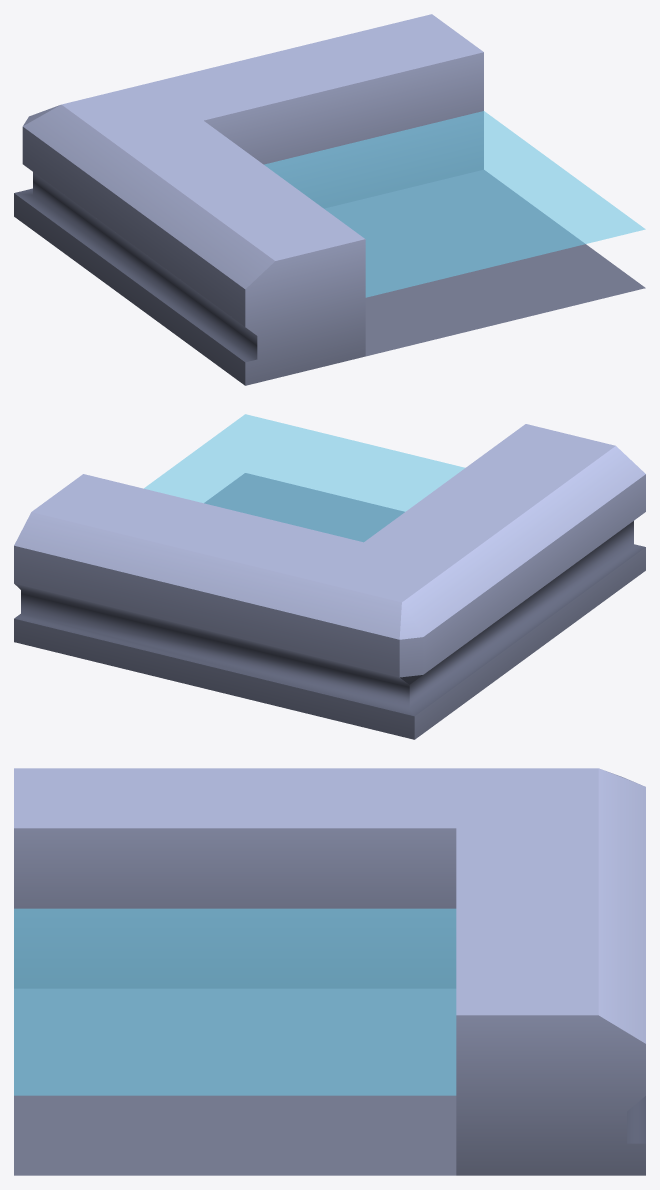
File: fountain-corner.glb
The picture shows the model from 3 angles, top to bottom: view 1: azimuth 30°, elevation 25°; view 2: azimuth 150°, elevation 25°; view 3: azimuth 270°, elevation 25°; orthographic projection. The views are drawn at different scales.
Parts seen in each view (by area): view 1: fountain-corner, (%ignore); view 2: fountain-corner, (%ignore); view 3: fountain-corner, (%ignore).
Part boxes in pixels (bbox=[...]): fountain-corner: bbox=[14, 14, 645, 385]; (%ignore): bbox=[264, 111, 645, 297]; fountain-corner: bbox=[14, 424, 645, 739]; (%ignore): bbox=[144, 414, 464, 542]; fountain-corner: bbox=[14, 768, 645, 1175]; (%ignore): bbox=[14, 908, 456, 1095].
Bounding box in the file's own units: 1 × 0.28 × 1.
2 materials, 1 textured.
